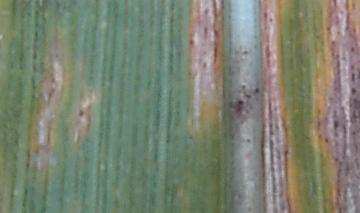tarspot: (210, 1, 219, 25), (242, 90, 253, 100), (332, 117, 339, 132), (76, 108, 85, 119), (349, 71, 356, 85), (253, 86, 262, 94), (349, 87, 358, 95), (244, 137, 252, 145), (322, 137, 330, 145), (242, 48, 249, 57), (263, 10, 268, 21), (220, 1, 226, 10), (188, 38, 194, 47), (204, 7, 209, 17), (239, 83, 246, 90), (267, 16, 273, 23), (237, 100, 244, 106), (349, 46, 355, 53), (235, 107, 241, 113)
